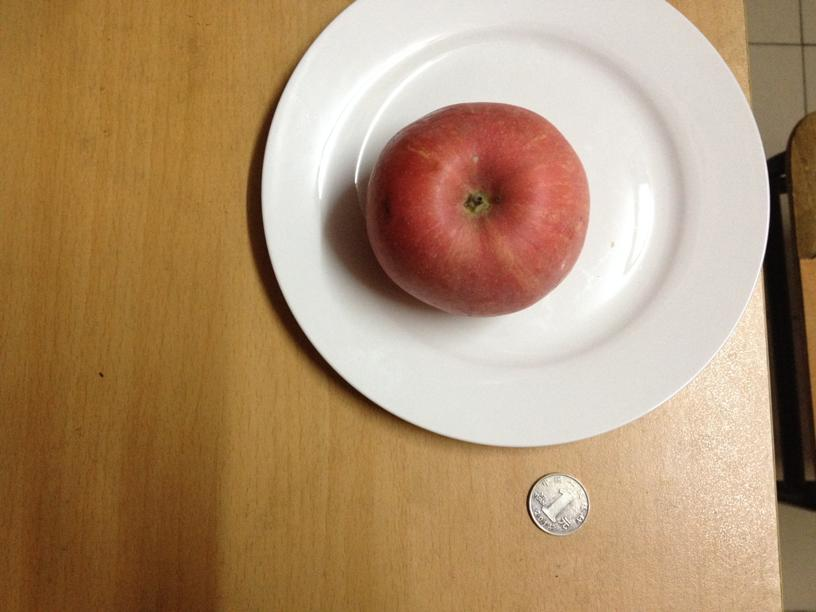apple: (364, 101, 589, 317)
coin: (524, 470, 590, 534)
